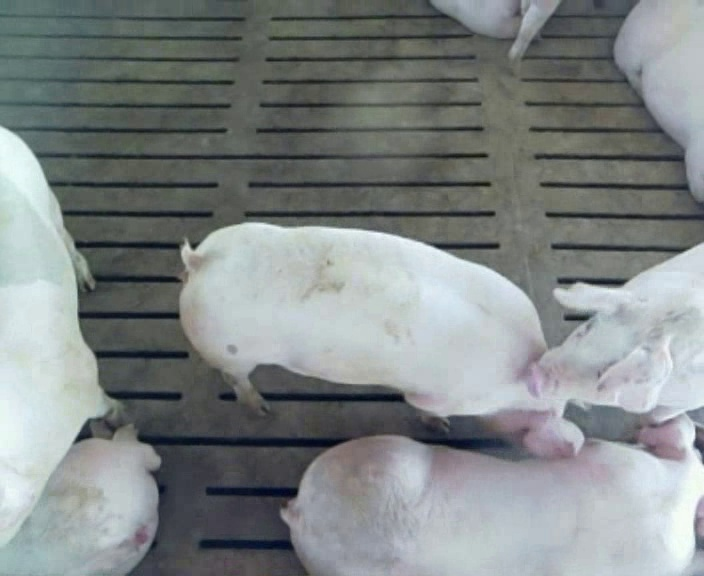pig: (180, 223, 591, 456), (281, 414, 703, 573), (0, 127, 123, 545), (532, 243, 703, 422), (0, 420, 160, 574), (614, 2, 703, 201)
